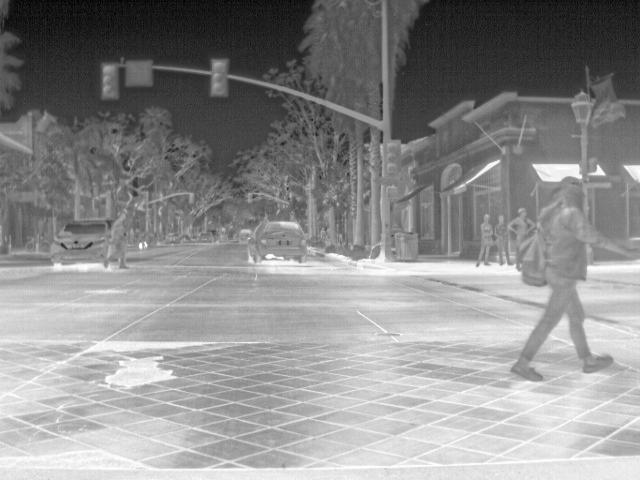car: (50, 219, 115, 267), (244, 216, 307, 260), (161, 232, 180, 246)
person: (507, 177, 637, 379), (101, 214, 127, 268), (473, 213, 494, 267), (509, 207, 536, 247), (492, 212, 510, 266)
